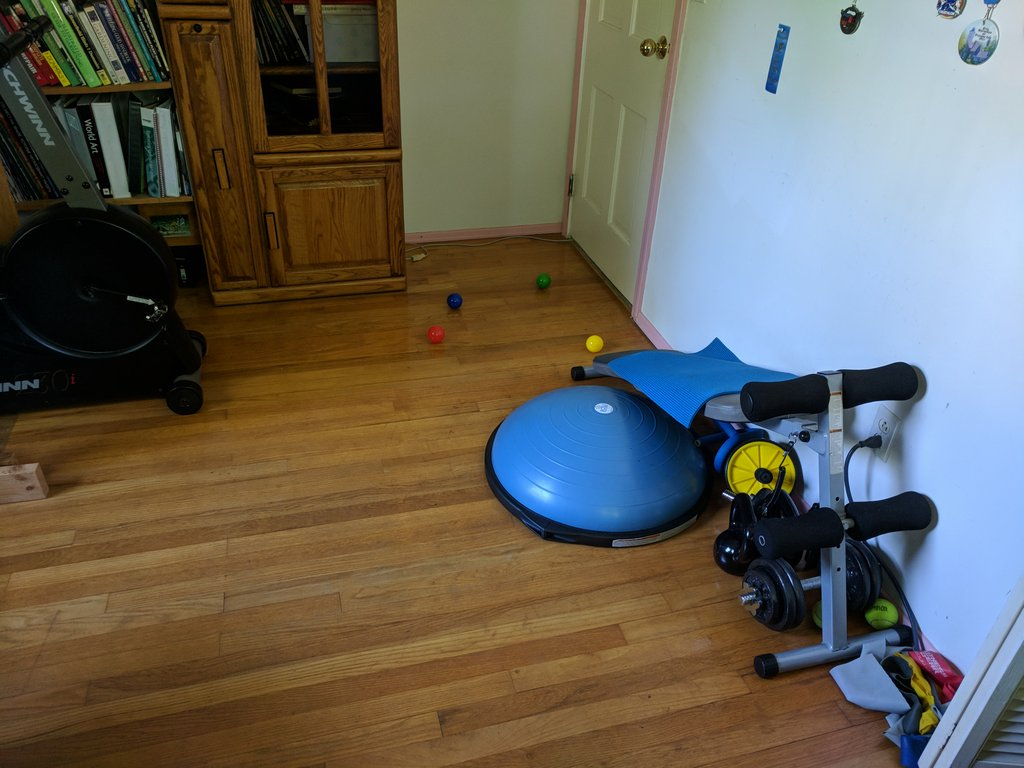ball: (446, 293, 463, 309)
